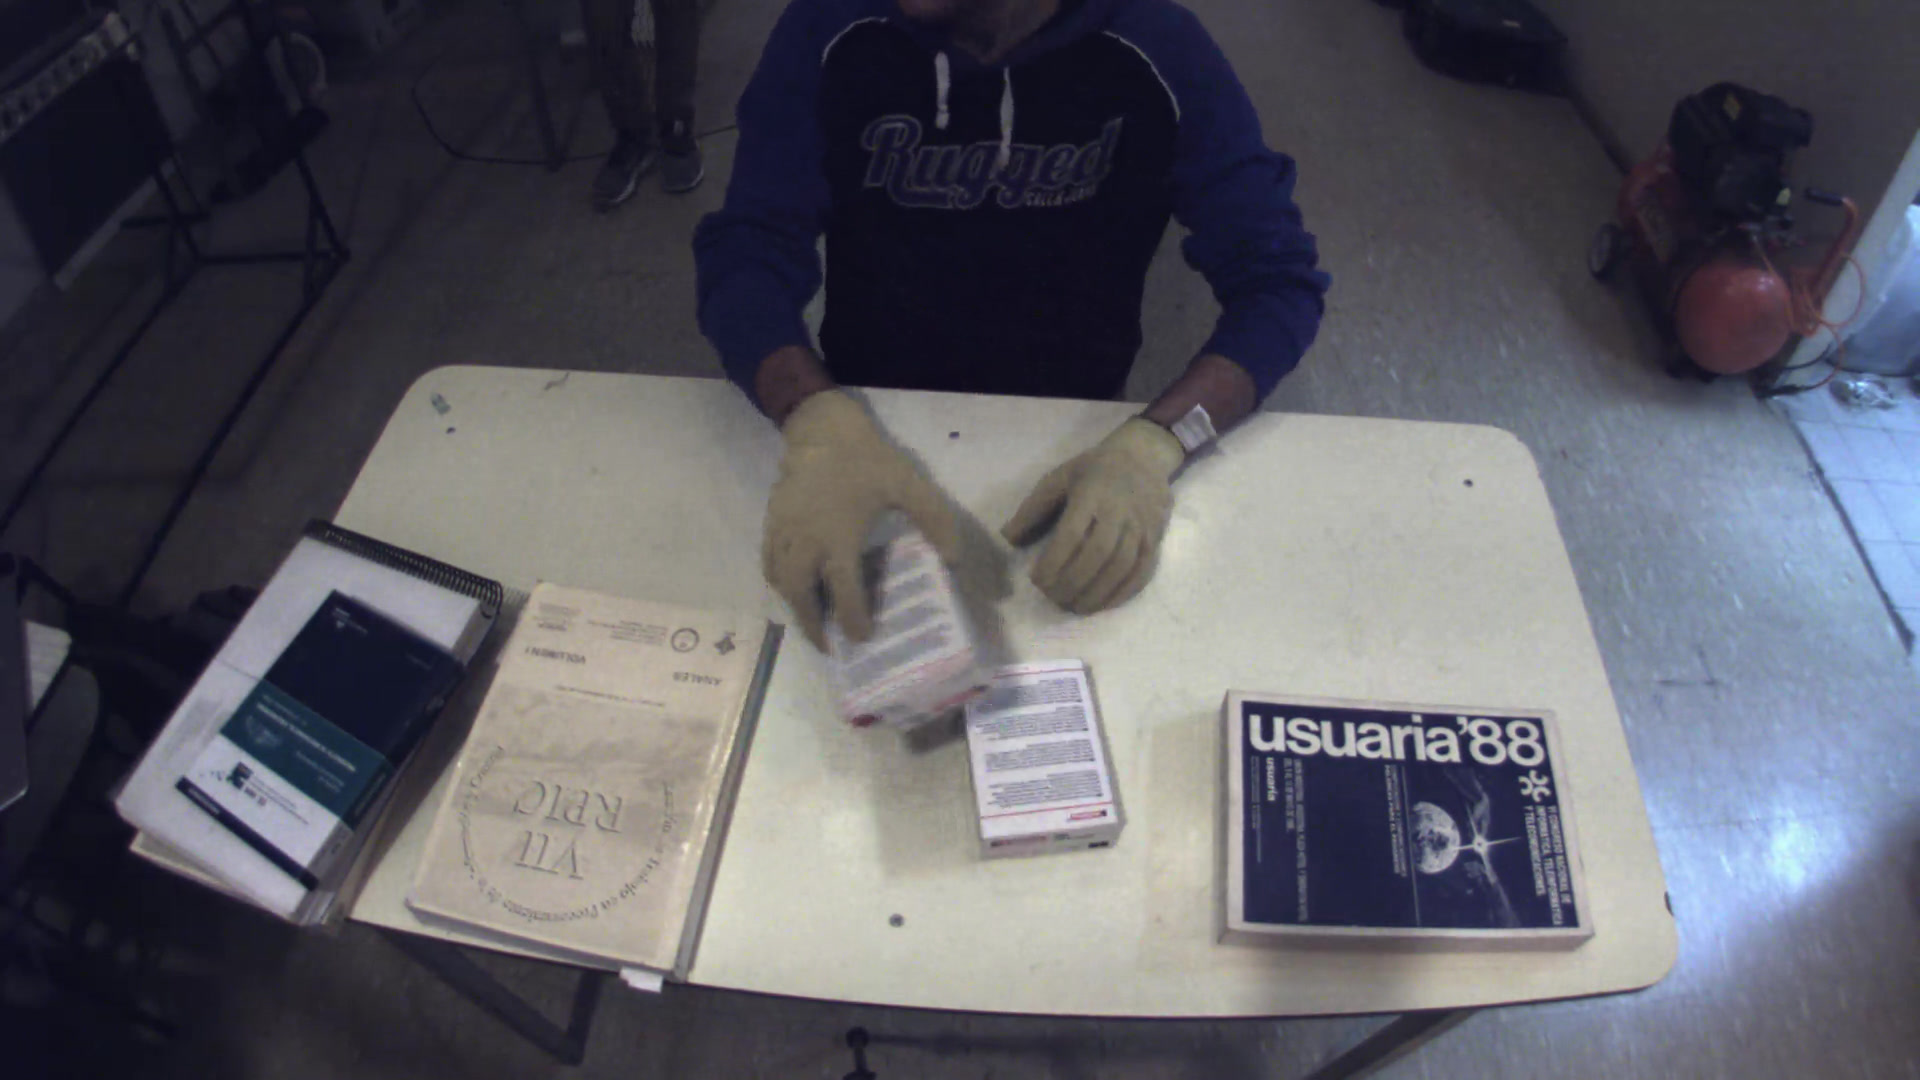hand: (745, 380, 951, 669), (998, 396, 1215, 618)
